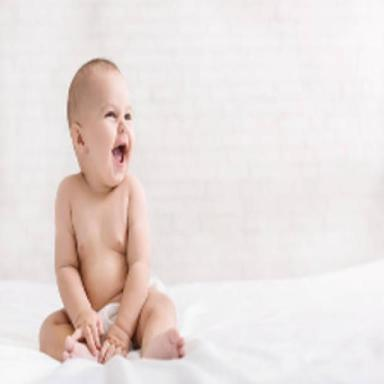normal skin: (40, 63, 185, 365)
